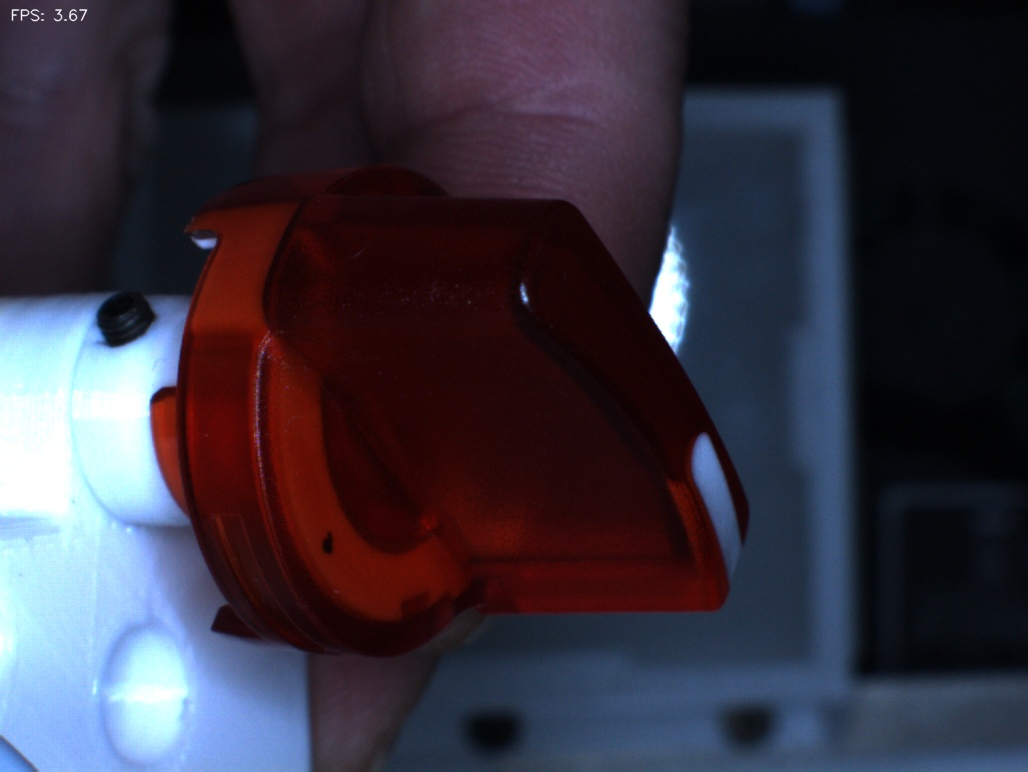PointNoir: (285, 500, 367, 589)
